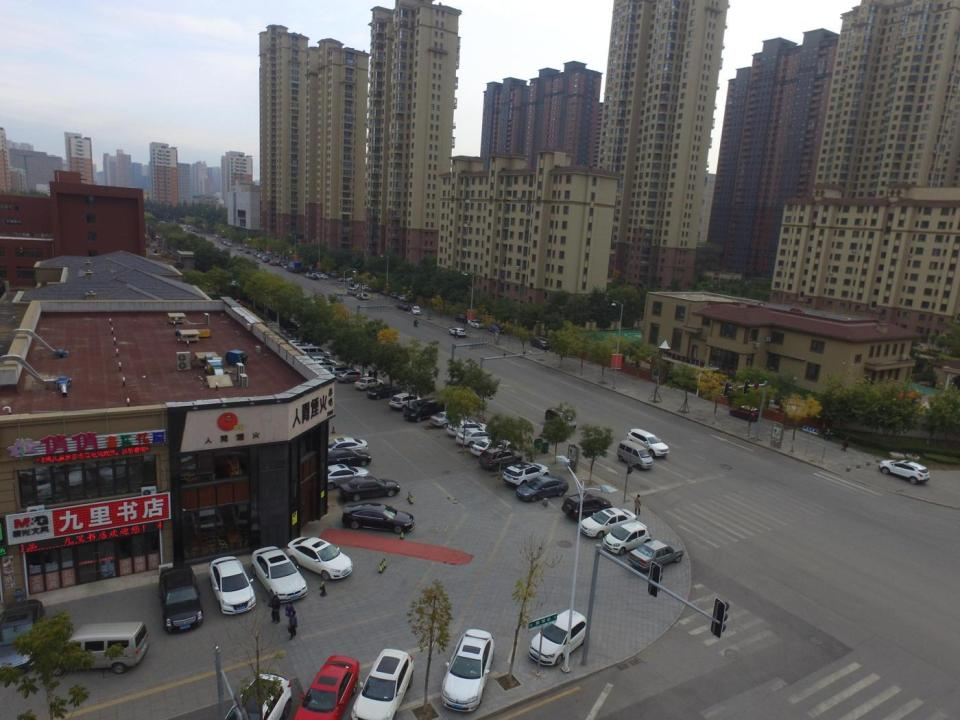car: (350, 648, 414, 720), (440, 630, 494, 711), (293, 654, 358, 720), (0, 599, 44, 678), (528, 610, 588, 666), (219, 673, 290, 719), (157, 568, 204, 636), (251, 547, 307, 601), (284, 538, 352, 581), (208, 558, 256, 614), (340, 506, 413, 534), (580, 507, 639, 539), (626, 541, 686, 569), (876, 455, 931, 484), (603, 523, 653, 554), (516, 475, 569, 504), (339, 477, 400, 501), (314, 465, 370, 491), (320, 447, 371, 473), (563, 494, 612, 521), (626, 428, 669, 458), (502, 462, 549, 488), (322, 437, 367, 459), (478, 448, 522, 470), (469, 438, 512, 459), (430, 411, 468, 432), (457, 429, 498, 448), (447, 421, 488, 438), (730, 402, 761, 421), (367, 384, 403, 400), (389, 393, 422, 410), (310, 362, 339, 378), (335, 370, 368, 384), (305, 356, 335, 369), (354, 378, 385, 390), (530, 337, 550, 350), (487, 323, 506, 334), (448, 326, 466, 337), (467, 319, 484, 329), (454, 314, 470, 323), (349, 280, 362, 288), (411, 306, 422, 315), (396, 304, 410, 311), (399, 294, 411, 302), (339, 276, 354, 282), (368, 286, 382, 292), (317, 274, 329, 280), (361, 284, 373, 290), (354, 282, 366, 288), (357, 294, 368, 300), (390, 292, 401, 298), (329, 270, 340, 276), (308, 274, 318, 280), (269, 260, 277, 266), (261, 257, 269, 263), (236, 247, 244, 251), (245, 249, 251, 254), (274, 252, 280, 257), (253, 253, 258, 258), (257, 254, 263, 258), (227, 243, 233, 247), (256, 248, 262, 252), (222, 241, 228, 244)
truck: (286, 260, 302, 273)
van: (55, 622, 151, 674), (616, 439, 653, 470), (405, 398, 444, 424), (545, 407, 577, 431), (292, 346, 330, 364), (330, 365, 358, 378), (346, 288, 360, 295)
